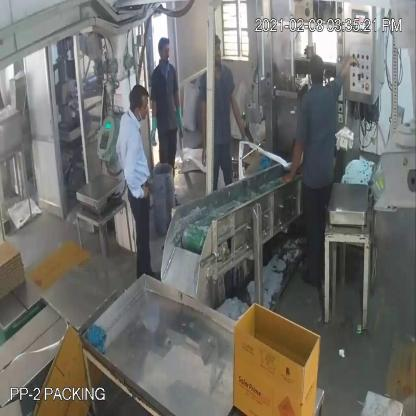glove: (169, 82, 190, 146), (146, 96, 162, 150)
no_glove: (278, 124, 312, 187), (121, 135, 148, 211), (223, 78, 250, 152), (333, 48, 363, 90), (198, 92, 210, 173)
